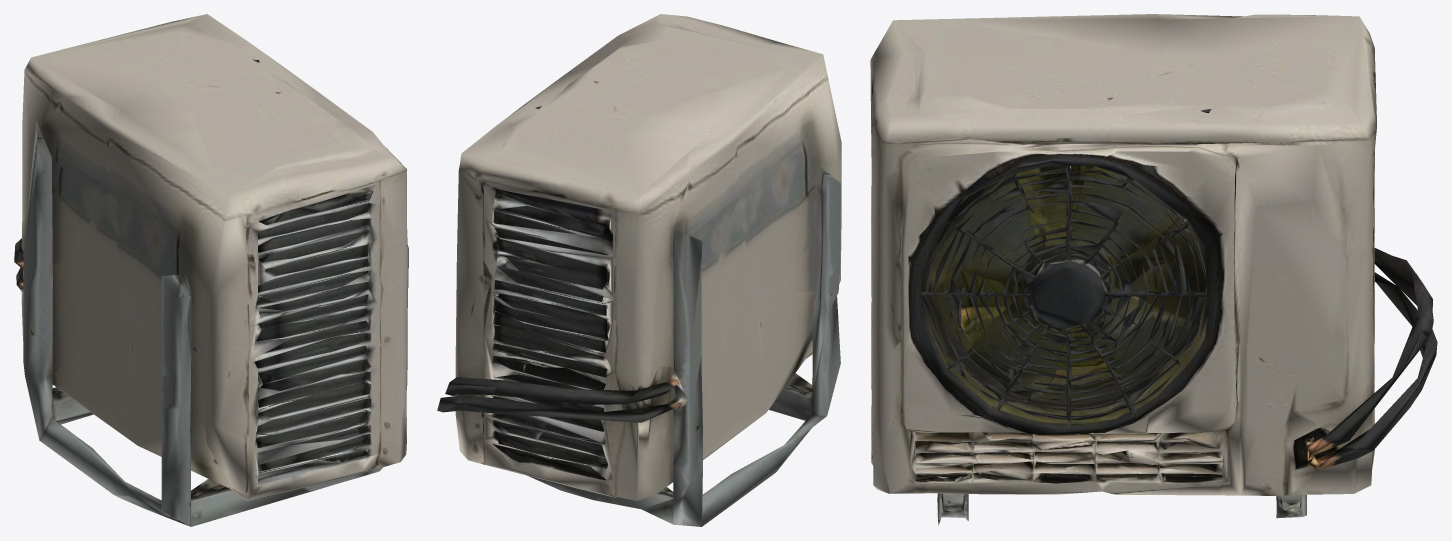
The model's file is acunit_lod1.glb.
3 views of the same model, side by side, from view 1: azimuth 30°, elevation 25°; view 2: azimuth 150°, elevation 25°; view 3: azimuth 270°, elevation 25° (orthographic). The views are drawn at different scales.
Visible parts, largest first — view 1: tripo_node_7f23abc9-f619-42bd-85ed-d74b16b5947b; view 2: tripo_node_7f23abc9-f619-42bd-85ed-d74b16b5947b; view 3: tripo_node_7f23abc9-f619-42bd-85ed-d74b16b5947b.
Part boxes in pixels (<box>): tripo_node_7f23abc9-f619-42bd-85ed-d74b16b5947b: <box>14,14,408,526</box>; tripo_node_7f23abc9-f619-42bd-85ed-d74b16b5947b: <box>437,14,841,526</box>; tripo_node_7f23abc9-f619-42bd-85ed-d74b16b5947b: <box>870,14,1437,525</box>.
Bounding box in the file's own units: 0.4087 × 0.5959 × 0.7059.
Materials: 1 (1 with a texture image).
